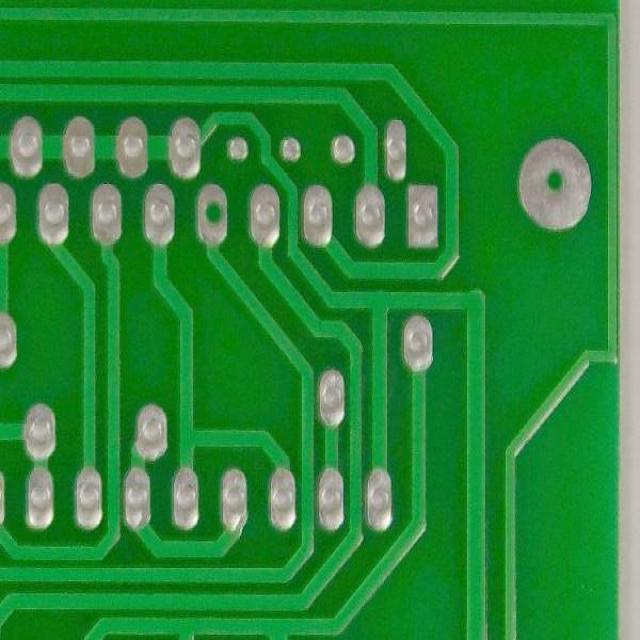missing hole: (516, 139, 598, 233), (191, 178, 230, 250)
